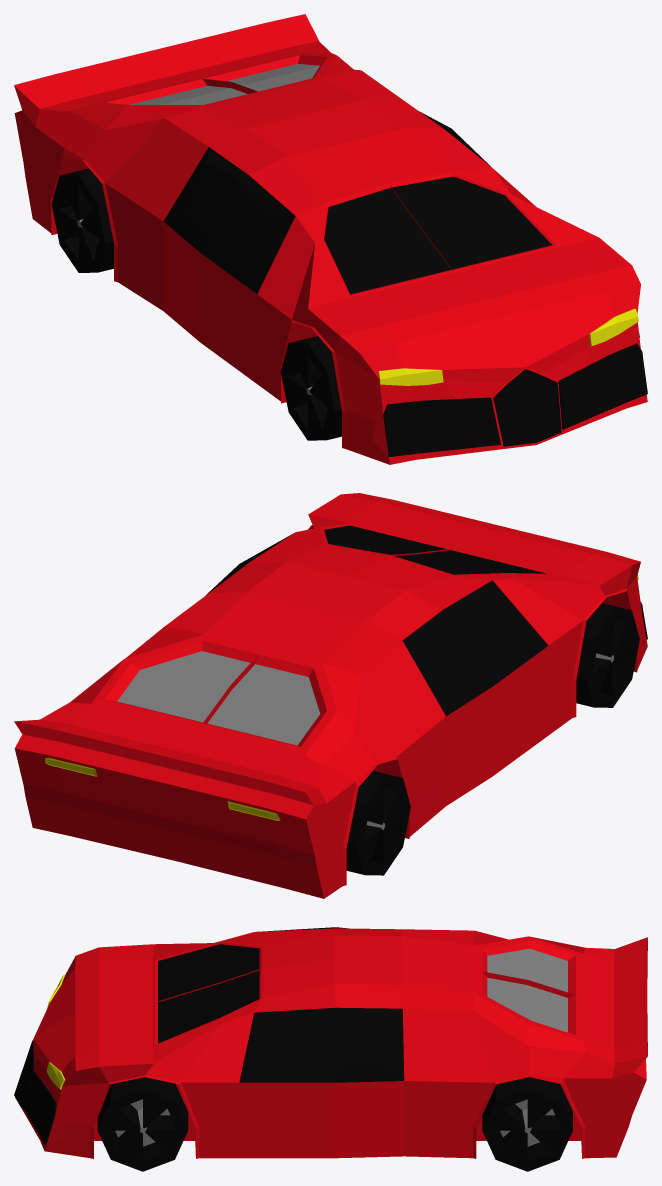
Rendered from coch3_3.fbx.
3 views of the same model, one above another, from view 1: azimuth 30°, elevation 25°; view 2: azimuth 150°, elevation 25°; view 3: azimuth 270°, elevation 25° (orthographic). The views are drawn at different scales.
Parts seen in each view (by area): view 1: Coche3, Vidrios., Parachoques, Ruedas, Luces; view 2: Coche3, Vidrios., Ruedas, Luces; view 3: Coche3, Vidrios., Ruedas, Parachoques, Luces.
Part boxes in pixels (x1=…): Coche3: x1=14, y1=14, x2=647, y2=464; Vidrios.: x1=129, y1=63, x2=552, y2=294; Parachoques: x1=383, y1=343, x2=647, y2=456; Ruedas: x1=280, y1=333, x2=639, y2=440; Luces: x1=378, y1=308, x2=638, y2=385; Coche3: x1=14, y1=493, x2=647, y2=898; Vidrios.: x1=117, y1=525, x2=546, y2=745; Ruedas: x1=576, y1=603, x2=639, y2=707; Luces: x1=45, y1=574, x2=638, y2=820; Coche3: x1=15, y1=927, x2=647, y2=1171; Vidrios.: x1=158, y1=944, x2=567, y2=1082; Ruedas: x1=97, y1=1077, x2=188, y2=1171; Parachoques: x1=14, y1=1040, x2=56, y2=1144; Luces: x1=46, y1=974, x2=65, y2=1089.
Bounding box in the file's own units: 140 × 78.02 × 300.
